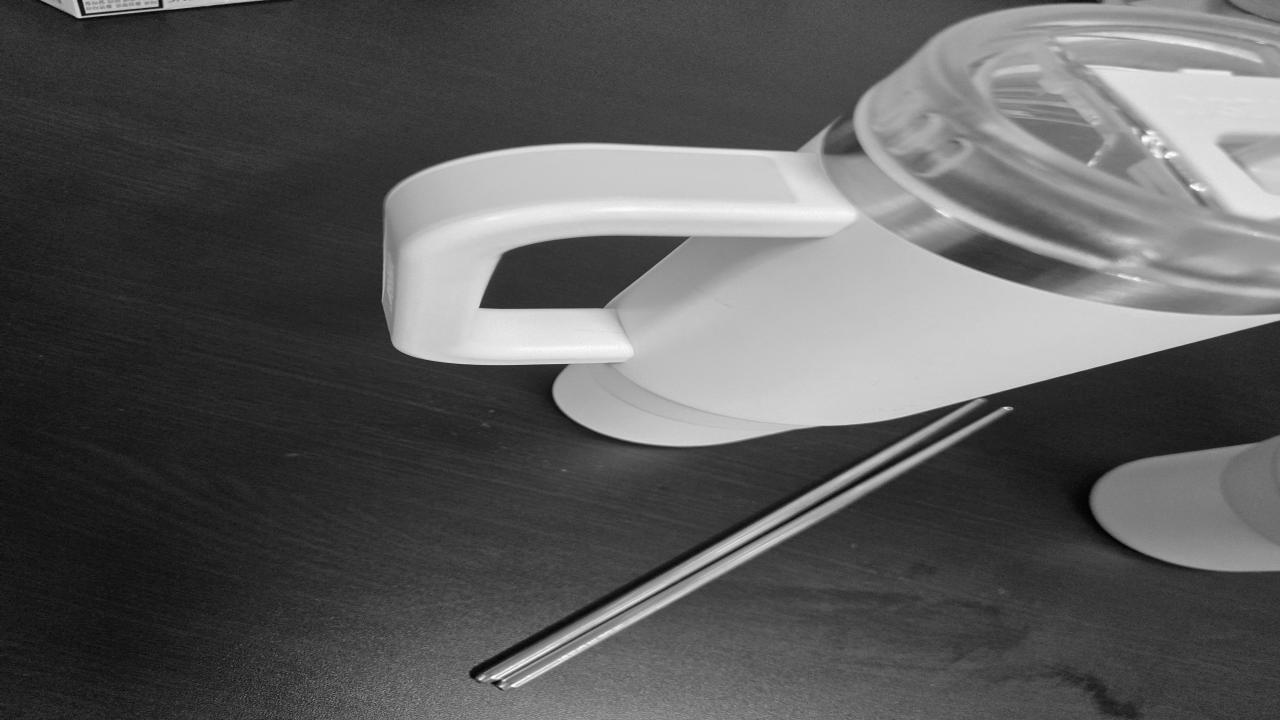chopstick: (474, 401, 1013, 691)
